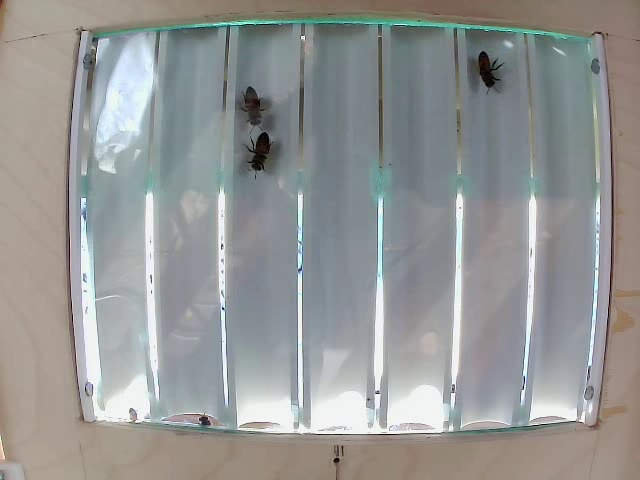bee: (476, 56, 516, 100), (245, 94, 279, 128), (251, 146, 277, 178)
